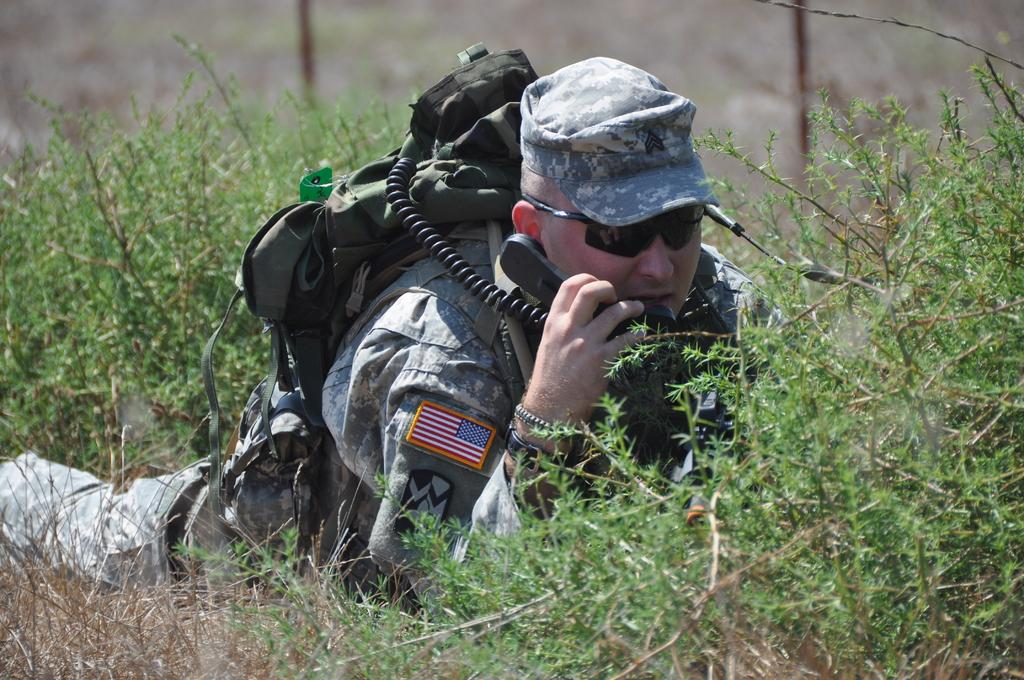Hat: (518, 48, 718, 227)
